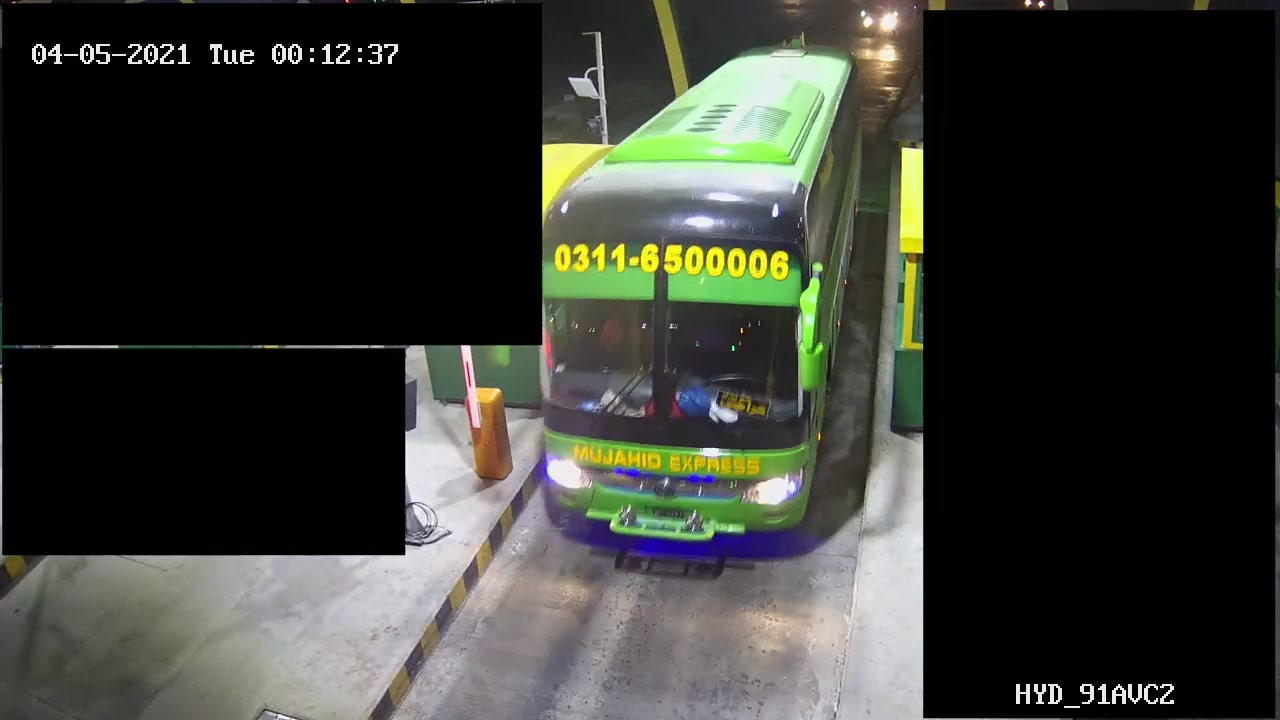F4: (528, 37, 877, 558)
